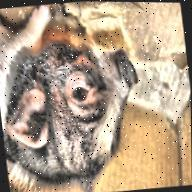boar: (0, 0, 150, 192)
